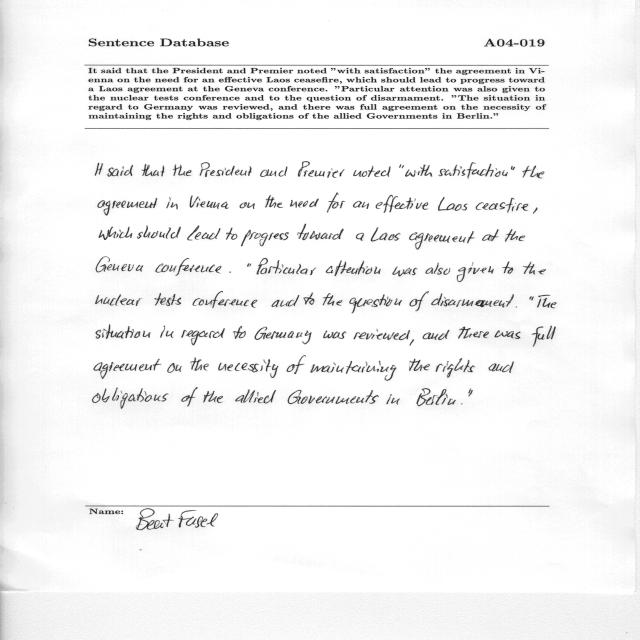word: (311, 361, 397, 381), (93, 388, 169, 409), (94, 359, 162, 379), (288, 390, 379, 404), (409, 231, 475, 250), (438, 162, 508, 179), (156, 258, 222, 276), (431, 294, 514, 308), (218, 359, 278, 378), (193, 292, 258, 309), (98, 198, 157, 216), (350, 295, 403, 314), (257, 258, 316, 275), (254, 327, 312, 344), (376, 195, 428, 213), (326, 261, 381, 277), (96, 324, 151, 339), (298, 161, 345, 178), (200, 162, 252, 177), (476, 198, 528, 213), (436, 358, 475, 378), (241, 230, 289, 246), (297, 224, 344, 240), (181, 328, 225, 345), (457, 263, 494, 283), (416, 388, 456, 406), (96, 257, 143, 272), (353, 329, 410, 340), (235, 390, 276, 404), (137, 226, 181, 239), (96, 294, 142, 306), (190, 195, 229, 209), (187, 226, 221, 241), (532, 326, 556, 347), (99, 226, 132, 240), (438, 197, 468, 211), (353, 166, 391, 177), (371, 228, 400, 242), (410, 291, 429, 311), (286, 355, 306, 374), (458, 327, 489, 339), (405, 164, 432, 177), (155, 293, 182, 306), (327, 193, 345, 212), (272, 295, 299, 307), (181, 388, 198, 407), (107, 165, 133, 177), (426, 263, 451, 275), (523, 262, 546, 275), (260, 166, 287, 177), (523, 166, 545, 179), (488, 362, 514, 373), (142, 164, 165, 176), (423, 330, 450, 340), (190, 357, 209, 371), (290, 199, 319, 208), (505, 229, 525, 242), (392, 267, 418, 277), (537, 295, 557, 308), (409, 359, 430, 371), (323, 293, 342, 306), (203, 391, 223, 403), (265, 195, 283, 208), (495, 330, 521, 339), (173, 164, 192, 176), (323, 330, 346, 339), (482, 229, 499, 241), (233, 326, 246, 339), (160, 326, 174, 338), (166, 197, 178, 210), (386, 394, 400, 405), (167, 363, 182, 373), (226, 227, 237, 240), (503, 261, 514, 274), (304, 292, 315, 305), (353, 201, 369, 209), (240, 202, 255, 209), (95, 163, 103, 176), (356, 233, 364, 241), (468, 388, 473, 397), (533, 207, 537, 214), (410, 339, 414, 346), (529, 296, 534, 301), (399, 165, 404, 169), (247, 263, 252, 267), (511, 166, 515, 170), (229, 272, 231, 273), (515, 307, 517, 308), (461, 404, 463, 405)
